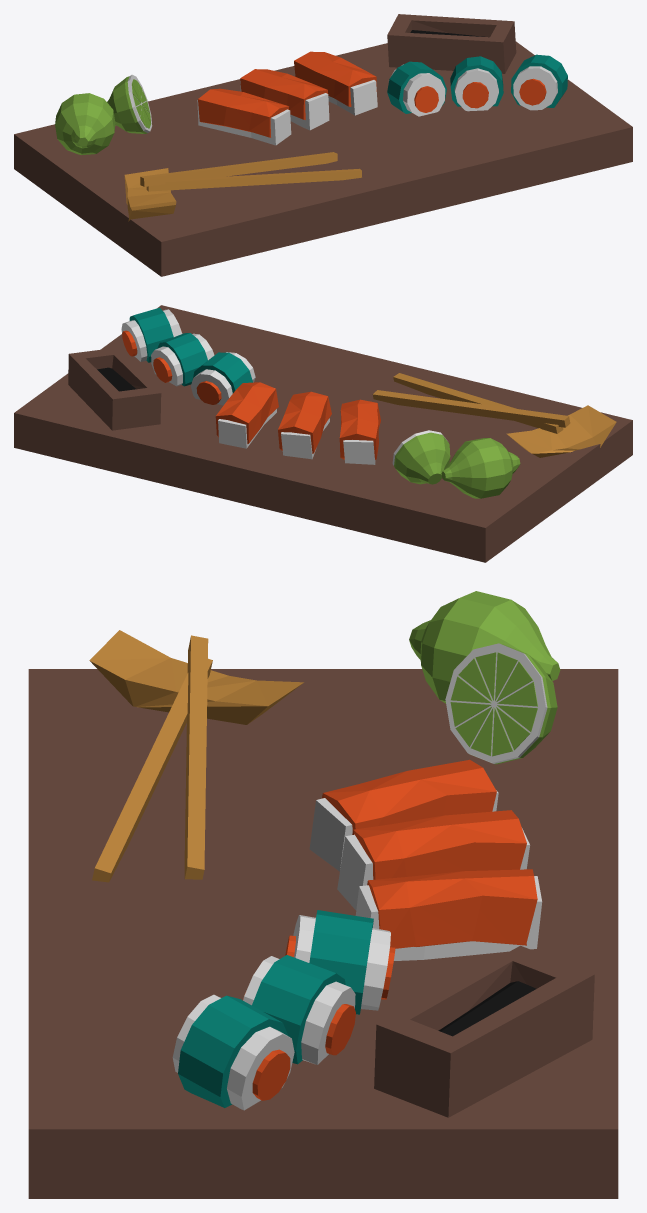
File: sushi-2.gltf
The picture shows the model from 3 angles, top to bottom: view 1: azimuth 30°, elevation 25°; view 2: azimuth 150°, elevation 25°; view 3: azimuth 270°, elevation 25°; orthographic projection. The views are drawn at different scales.
Visible parts, largest first — view 1: node_MeshObject60607680-PolyPaper21; view 2: node_MeshObject60607680-PolyPaper21; view 3: node_MeshObject60607680-PolyPaper21.
Boxes of the visible parts, x1=… form: node_MeshObject60607680-PolyPaper21: x1=14, y1=14, x2=632, y2=276; node_MeshObject60607680-PolyPaper21: x1=14, y1=305, x2=632, y2=562; node_MeshObject60607680-PolyPaper21: x1=28, y1=591, x2=618, y2=1198.
Bounding box in the file's own units: 0.8617 × 0.1546 × 0.46.
